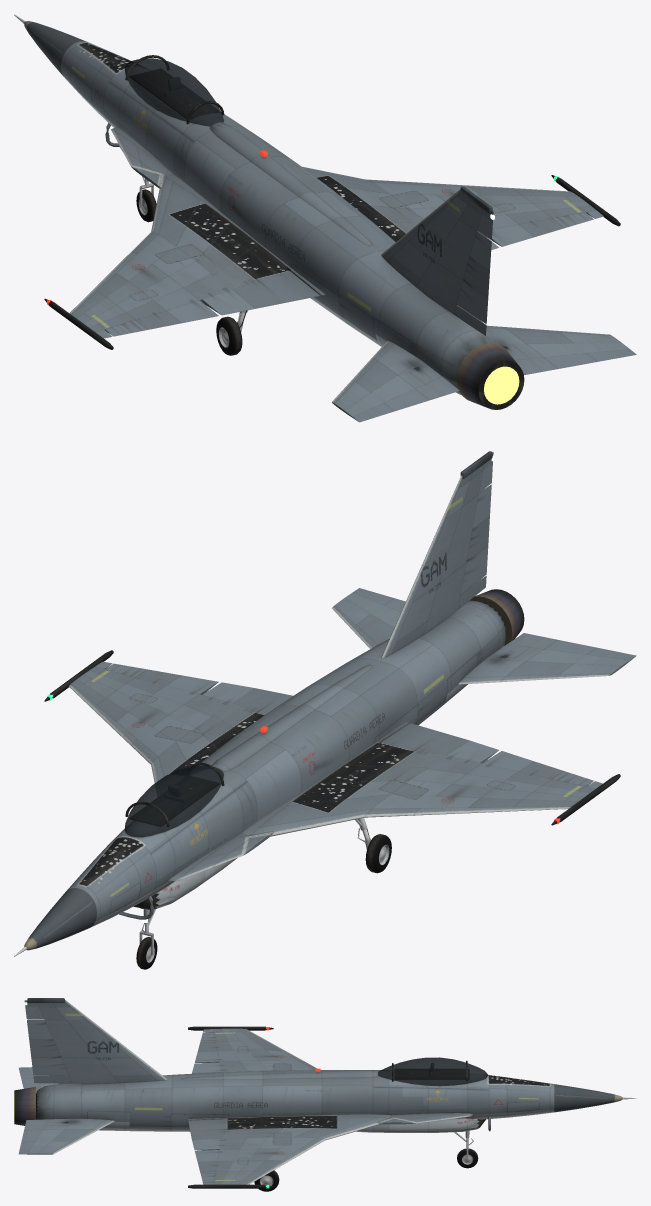
File: halcon.glb
3 renders of one model, top to bottom at view 1: azimuth 30°, elevation 25°; view 2: azimuth 150°, elevation 25°; view 3: azimuth 270°, elevation 25°, orthographic. The views are drawn at different scales.
Visible parts, largest first — view 1: lod0, wing_lod0, stabilator_l, stabilator_r, canopy, flap_l, rudder, aileron_l, aileron_r, gear_l, gear_nose; view 2: lod0, wing_lod0, stabilator_l, canopy, stabilator_r, flap_l, rudder, flap_r, aileron_l, aileron_r, gear_l, gear_nose; view 3: lod0, wing_lod0, canopy, stabilator_r, rudder, flap_r, aileron_r, aileron_l, gear_nose, stabilator_l, gear_r, flap_l.
Part boxes in pixels (left/top/right/bottom): lod0: left=14, top=14, right=559, bottom=409; wing_lod0: left=44, top=126, right=620, bottom=349; stabilator_l: left=332, top=340, right=459, bottom=422; stabilator_r: left=486, top=325, right=636, bottom=374; canopy: left=124, top=58, right=224, bottom=126; flap_l: left=202, top=267, right=319, bottom=315; rudder: left=456, top=231, right=491, bottom=323; aileron_l: left=105, top=300, right=218, bottom=336; aileron_r: left=492, top=212, right=593, bottom=246; gear_l: left=216, top=310, right=247, bottom=355; gear_nose: left=136, top=176, right=156, bottom=222; lod0: left=14, top=451, right=560, bottom=956; wing_lod0: left=44, top=650, right=620, bottom=881; stabilator_l: left=458, top=633, right=636, bottom=684; canopy: left=124, top=762, right=224, bottom=837; stabilator_r: left=332, top=588, right=405, bottom=648; flap_l: left=376, top=723, right=498, bottom=763; rudder: left=460, top=484, right=491, bottom=595; flap_r: left=203, top=682, right=293, bottom=715; aileron_l: left=483, top=751, right=593, bottom=786; aileron_r: left=105, top=663, right=218, bottom=694; gear_l: left=355, top=818, right=391, bottom=873; gear_nose: left=136, top=909, right=157, bottom=969; lod0: left=14, top=998, right=636, bottom=1188; wing_lod0: left=188, top=1026, right=472, bottom=1188; canopy: left=378, top=1057, right=488, bottom=1086; stabilator_r: left=18, top=1118, right=114, bottom=1154; rudder: left=27, top=1019, right=68, bottom=1075; flap_r: left=188, top=1118, right=232, bottom=1150; aileron_r: left=195, top=1150, right=219, bottom=1182; aileron_l: left=195, top=1032, right=219, bottom=1062; gear_nose: left=454, top=1130, right=478, bottom=1168; stabilator_l: left=18, top=1067, right=59, bottom=1093; gear_r: left=254, top=1170, right=279, bottom=1191; flap_l: left=192, top=1062, right=221, bottom=1073.
Size of what is drawn, in the model's own units: 9.6 by 4.75 by 15.82.
8 materials, 1 textured.
